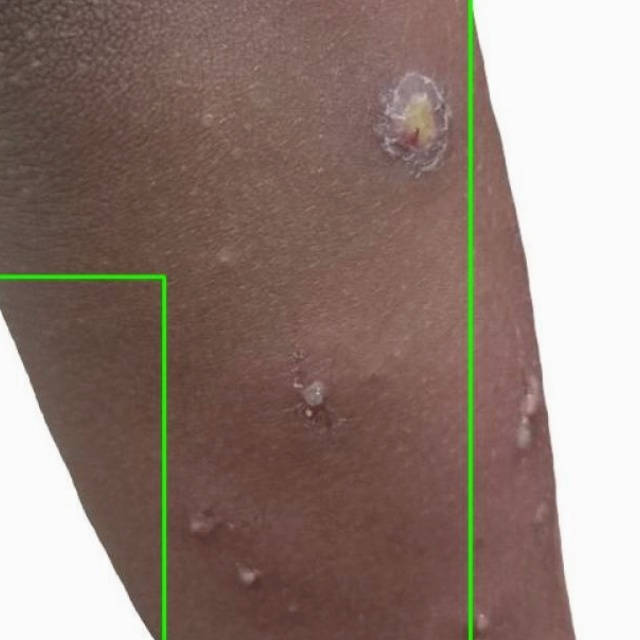Scabies: (470, 0, 639, 639), (0, 276, 164, 639)
